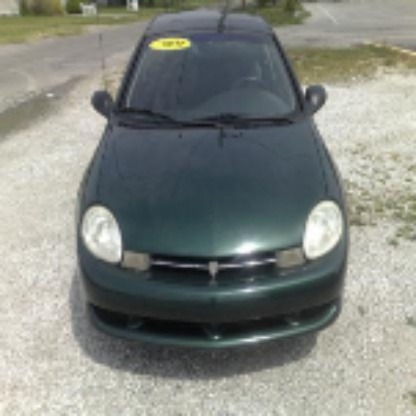Vehicle: (74, 9, 352, 359)
